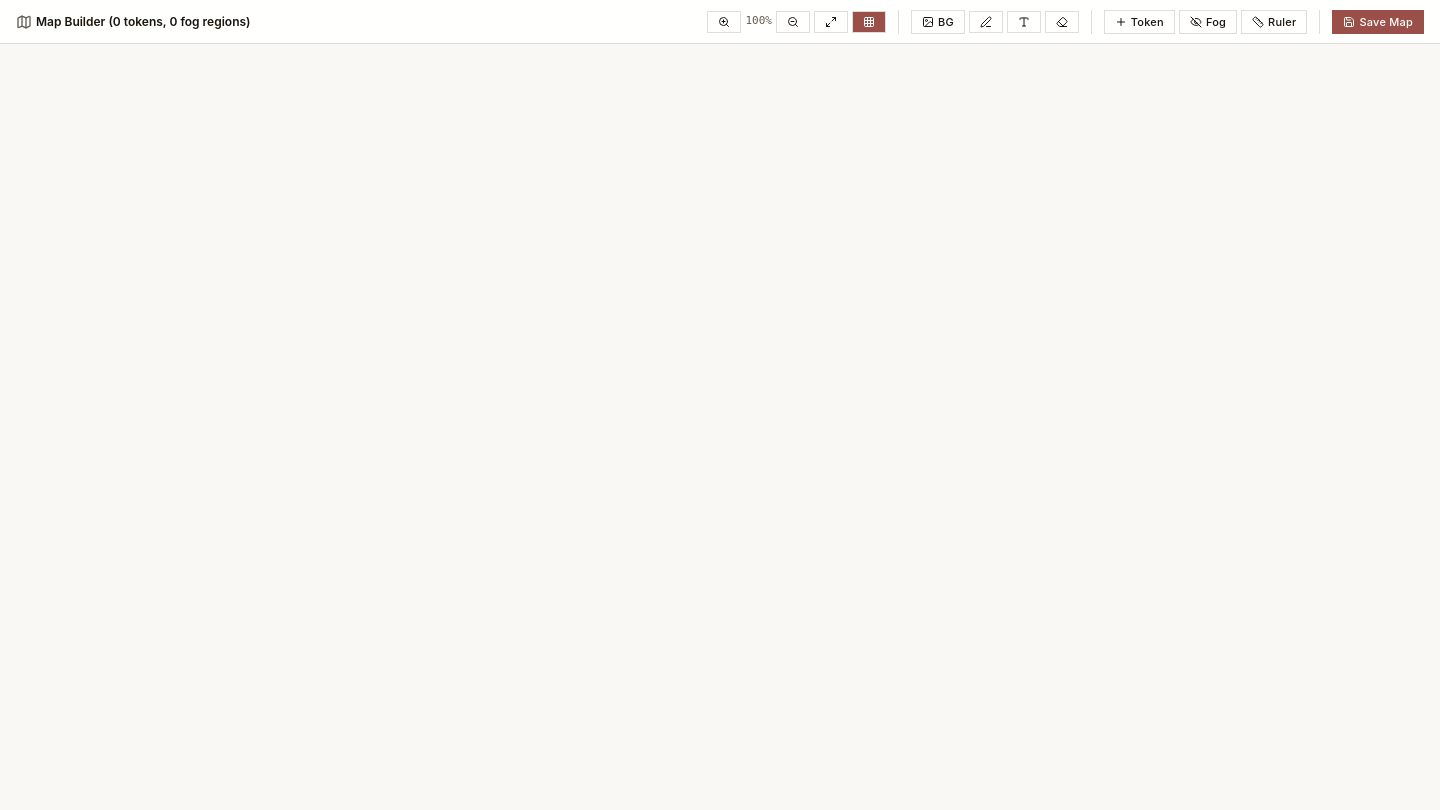
Test: MapBuilderView › shows a toast on save failure
Click the button titled "Save Map".
click(1378, 22)  # box [1332,10,1424,34]
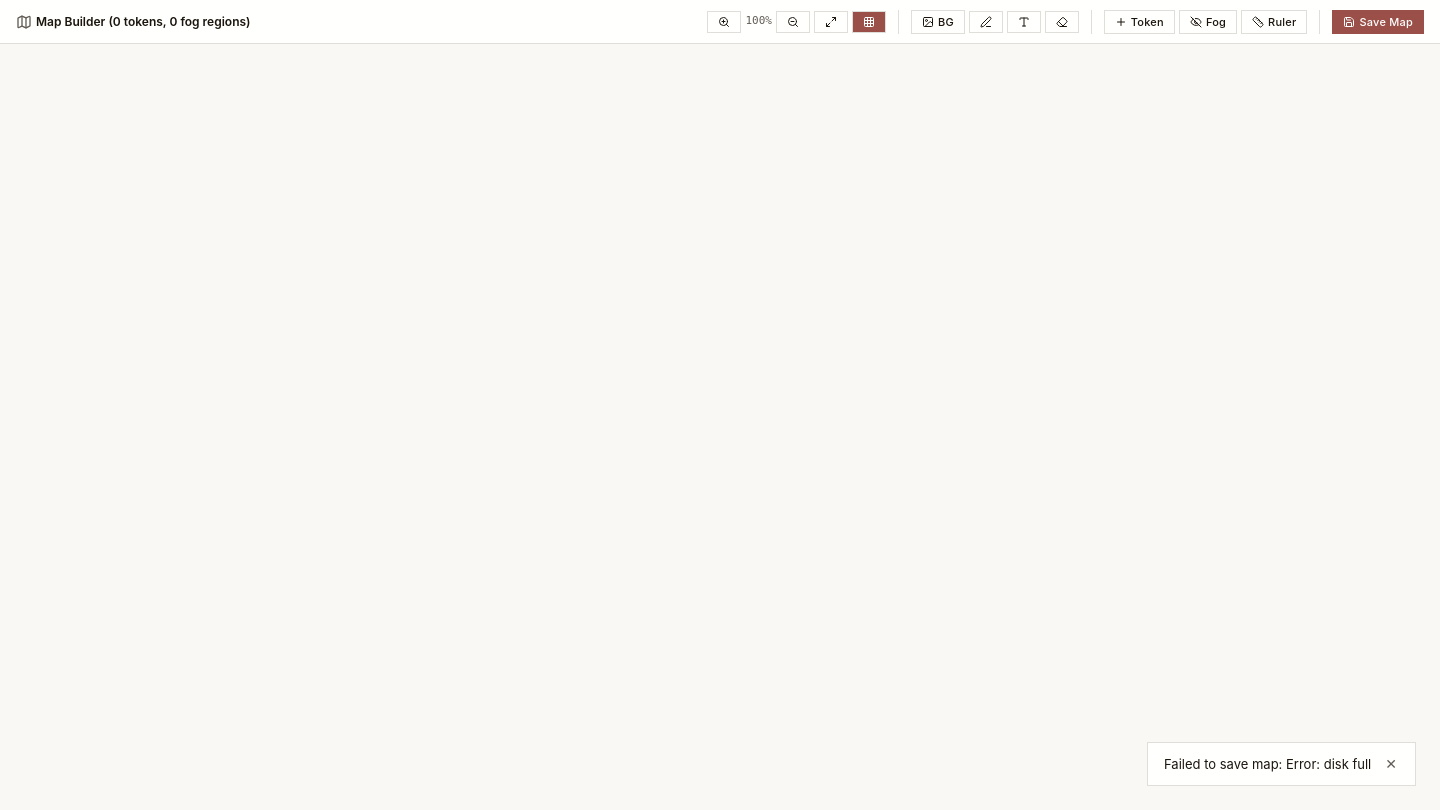
Result: the message shows "Failed to save map" at [1164,756,1371,772]
